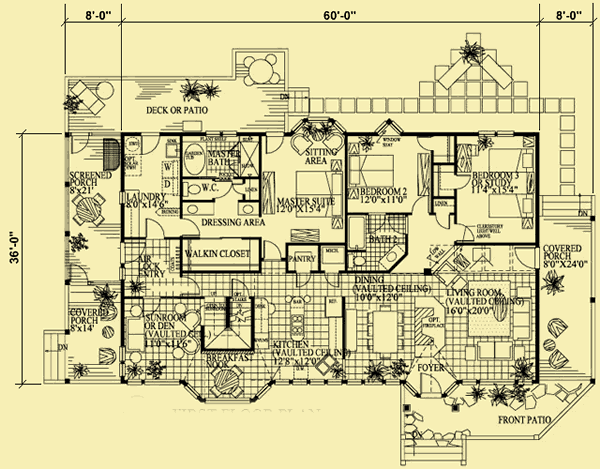bathroom has a bathtub with shower space and sinks: (179, 134, 258, 239)
bedroom has twin beds with bedside stands: (455, 132, 536, 248)
hall has a dining table for eating: (340, 274, 424, 386)
kitchen has a kitchen bar with twin sink and cooking range: (268, 271, 343, 387)
laundry room has washer and dryer: (121, 134, 182, 238)
livingroom has a large sofa with chairs: (121, 295, 205, 386)
livingroom has round dining table: (64, 135, 123, 288)
livingroom has small and large sofas with tables: (434, 246, 540, 383)
master bathroom has bathtub with sinks: (342, 212, 409, 274)
master bedroom has a double bed with chairs and tables: (259, 117, 346, 249), (343, 132, 430, 214)
